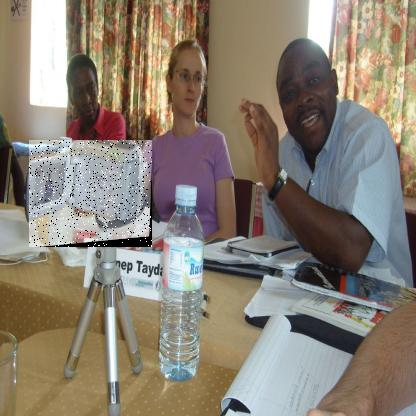Camera: (30, 141, 154, 249)
